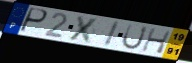2: (42, 12, 68, 39)
H: (140, 27, 173, 55)
I: (102, 20, 121, 48)
P: (17, 7, 49, 34)
U: (120, 22, 149, 50)
X: (67, 14, 102, 45)
